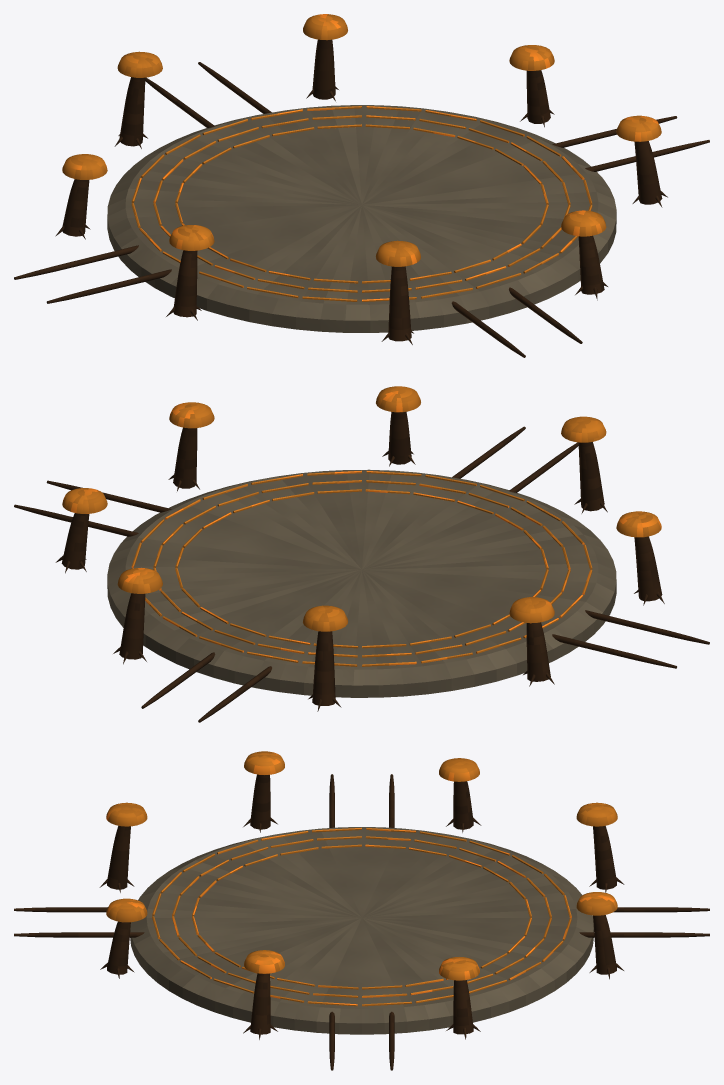
The model's file is underworld-boss-arena-carrion-crown.glb.
3 views of the same model, one above another, from view 1: azimuth 30°, elevation 25°; view 2: azimuth 150°, elevation 25°; view 3: azimuth 270°, elevation 25° (orthographic). The views are drawn at different scales.
Parts seen in each view (by area): view 1: combat-foundation, floor-inlay-2, floor-inlay-1, floor-inlay-0, buttress-5, buttress-2, buttress-4, buttress-7, buttress-1, buttress-6, buttress-3, buttress-0 (+13 smaller); view 2: combat-foundation, floor-inlay-2, floor-inlay-1, floor-inlay-0, buttress-2, buttress-5, buttress-1, buttress-4, buttress-7, buttress-3, buttress-0, buttress-6 (+15 smaller); view 3: combat-foundation, floor-inlay-2, floor-inlay-1, floor-inlay-0, buttress-5, buttress-2, buttress-7, buttress-1, buttress-4, buttress-0, buttress-6, buttress-3 (+12 smaller).
Boxes of the visible parts, x1,y1,x2,y2 form: combat-foundation: [107, 105, 616, 332]; floor-inlay-2: [131, 106, 592, 301]; floor-inlay-1: [153, 115, 570, 292]; floor-inlay-0: [175, 124, 548, 283]; buttress-5: [388, 266, 411, 341]; buttress-2: [119, 77, 145, 146]; buttress-4: [173, 250, 197, 317]; buttress-7: [634, 141, 662, 204]; buttress-1: [312, 39, 335, 99]; buttress-6: [578, 235, 604, 294]; buttress-3: [62, 179, 89, 236]; buttress-0: [526, 70, 550, 123]; combat-foundation: [107, 469, 616, 697]; floor-inlay-2: [131, 470, 592, 666]; floor-inlay-1: [153, 480, 570, 657]; floor-inlay-0: [175, 489, 548, 648]; buttress-2: [312, 631, 335, 705]; buttress-5: [578, 442, 604, 511]; buttress-1: [119, 593, 145, 659]; buttress-4: [634, 536, 662, 601]; buttress-7: [173, 427, 197, 488]; buttress-3: [526, 622, 550, 681]; buttress-0: [61, 513, 89, 569]; buttress-6: [388, 411, 411, 464]; combat-foundation: [130, 827, 593, 1034]; floor-inlay-2: [152, 827, 571, 1006]; floor-inlay-1: [172, 836, 551, 997]; floor-inlay-0: [192, 844, 531, 989]; buttress-5: [107, 825, 130, 889]; buttress-2: [593, 825, 616, 889]; buttress-7: [250, 973, 270, 1034]; buttress-1: [593, 915, 616, 974]; buttress-4: [250, 774, 270, 829]; buttress-0: [453, 980, 473, 1034]; buttress-6: [107, 921, 130, 974]; buttress-3: [453, 781, 473, 829].
Bounding box in the file's own units: 42 × 5.9 × 42.
3 materials, 3 textured.
